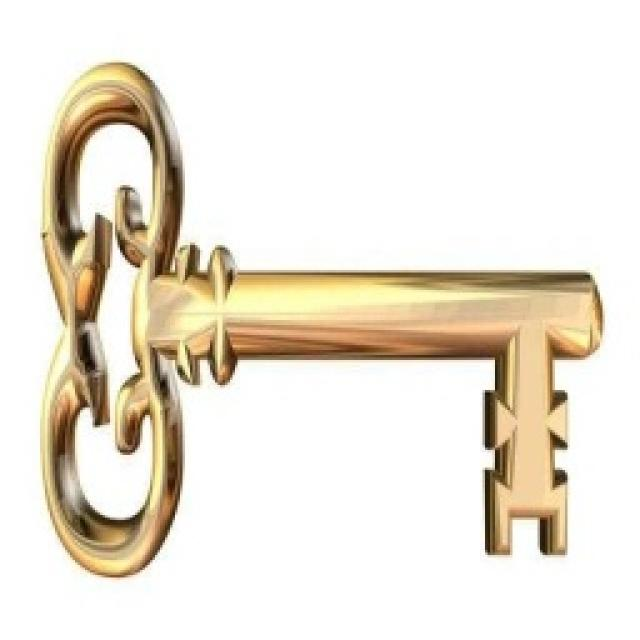anahtar: (29, 56, 606, 584)
